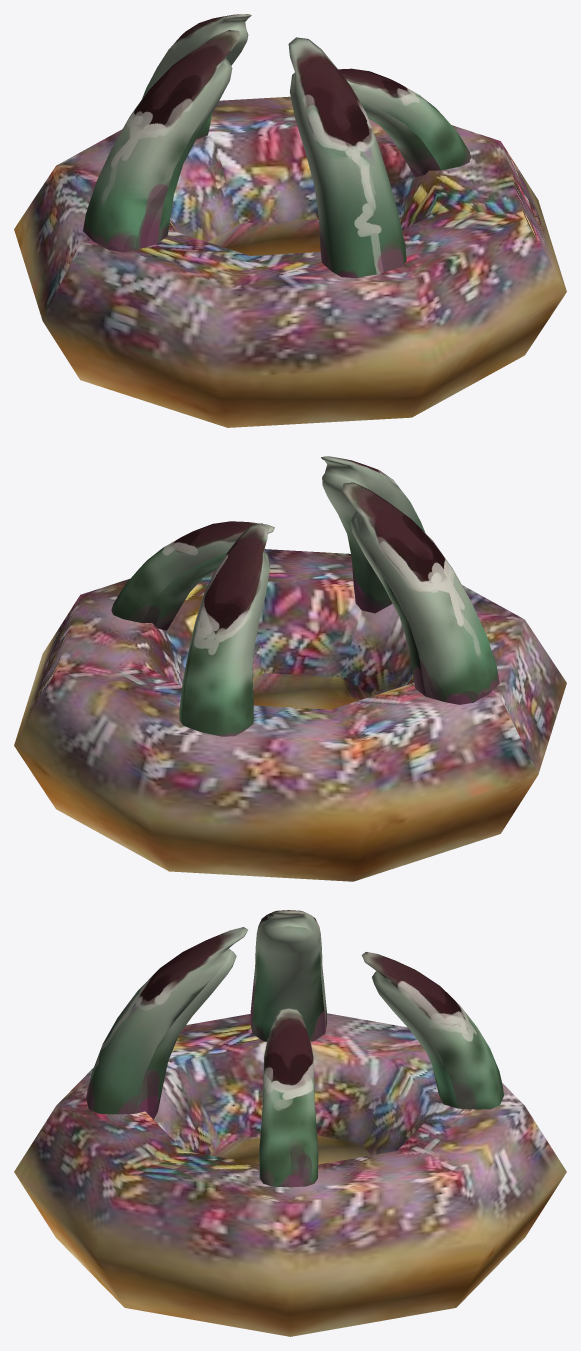
Rendered from Donuts_Z.fbx.
The picture shows the model from 3 angles, top to bottom: view 1: azimuth 30°, elevation 25°; view 2: azimuth 150°, elevation 25°; view 3: azimuth 270°, elevation 25°; orthographic projection. The views are drawn at different scales.
Visible parts, largest first — view 1: Donuts_Z; view 2: Donuts_Z; view 3: Donuts_Z.
Boxes of the visible parts, x1,y1,x2,y2 form: Donuts_Z: (14,14,566,427); Donuts_Z: (14,456,566,881); Donuts_Z: (14,910,566,1336).
Bounding box in the file's own units: 18.82 × 11.29 × 18.82.
